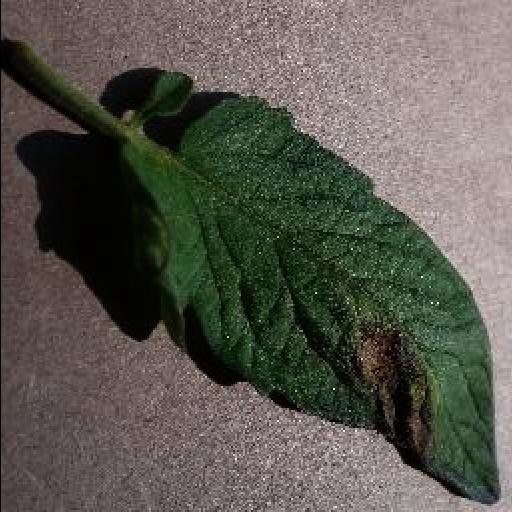disease_tomato: (114, 95, 502, 505)
